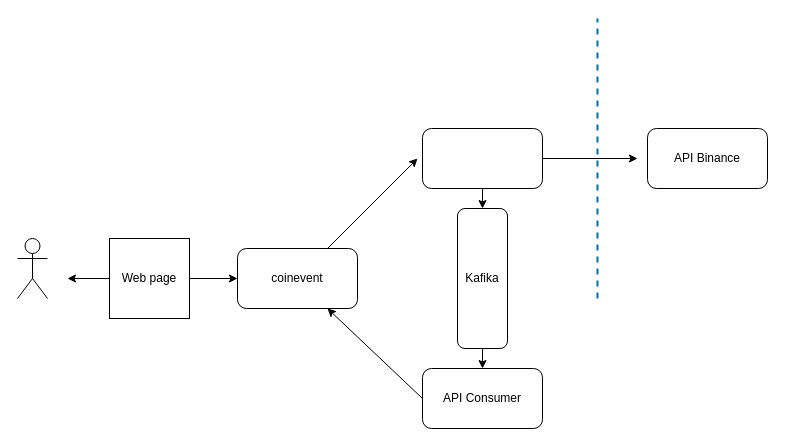
Some shapes in this 785 by 446 pixel diagram are drawn without their labels. Each missing label, with the centre of its shape:
API Producer: point (482, 158)
User: point (32, 268)
